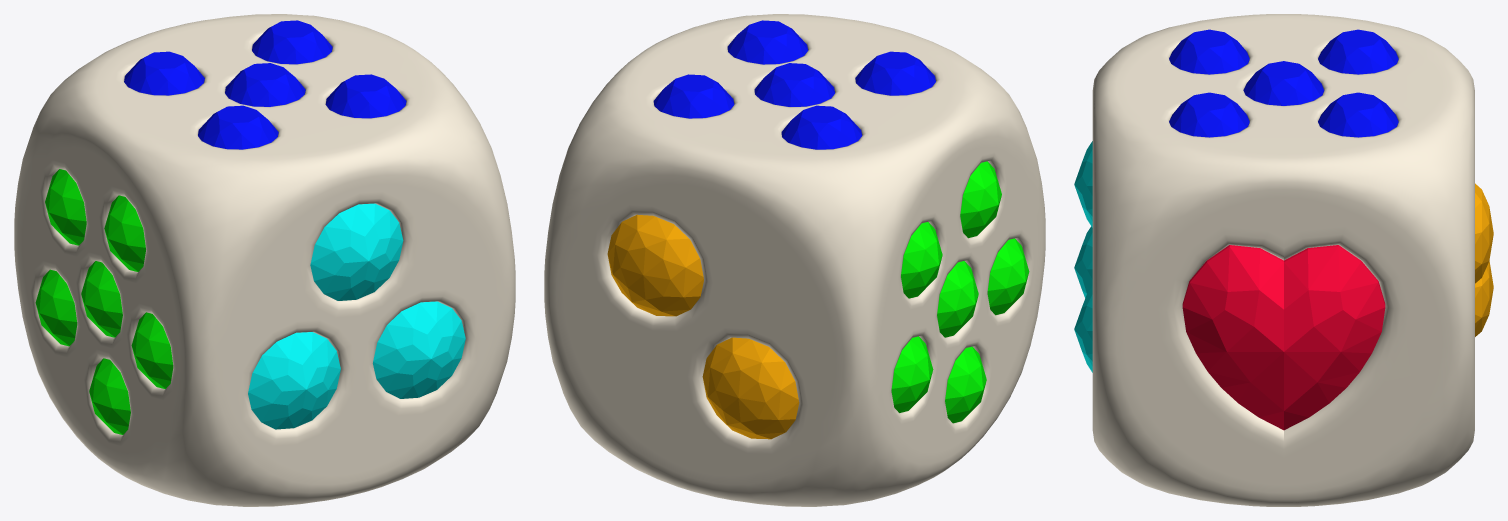
Rendered from GemDiceH.glb.
The picture shows the model from 3 angles, left to right: view 1: azimuth 30°, elevation 25°; view 2: azimuth 150°, elevation 25°; view 3: azimuth 270°, elevation 25°; orthographic projection.
Visible parts, largest first — view 1: GemDiceH; view 2: GemDiceH; view 3: GemDiceH.
Part boxes in pixels (x1,y1,x2,y2): GemDiceH: (14,14,515,506); GemDiceH: (544,14,1045,506); GemDiceH: (1074,14,1493,506).
Size of the model in its own units: 0.5693 by 0.5493 by 0.5489.
